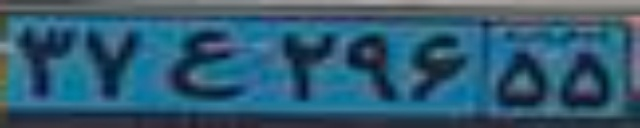2: (280, 30, 336, 100)
3: (17, 25, 74, 98)
5: (555, 51, 615, 108), (492, 51, 546, 108)
6: (407, 35, 468, 101)
7: (84, 25, 141, 101)
9: (345, 33, 401, 101)
ain: (165, 30, 253, 99)
